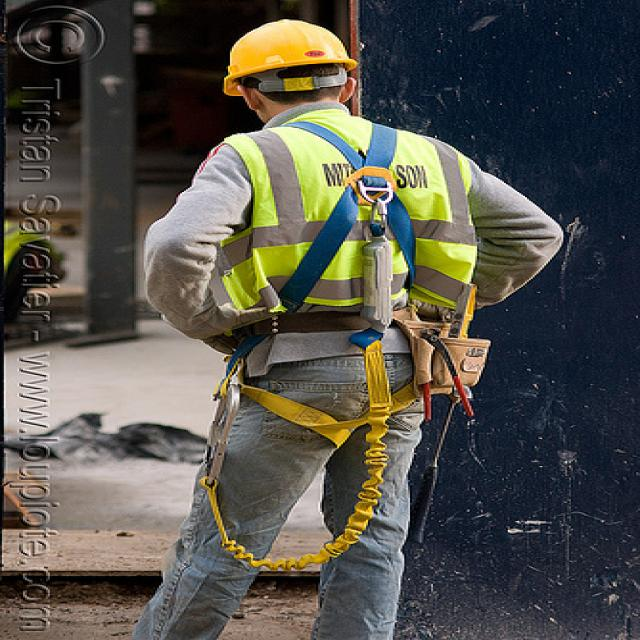Reflective-Jacket: (209, 114, 477, 325)
Safety-Helmet: (217, 14, 362, 90)
